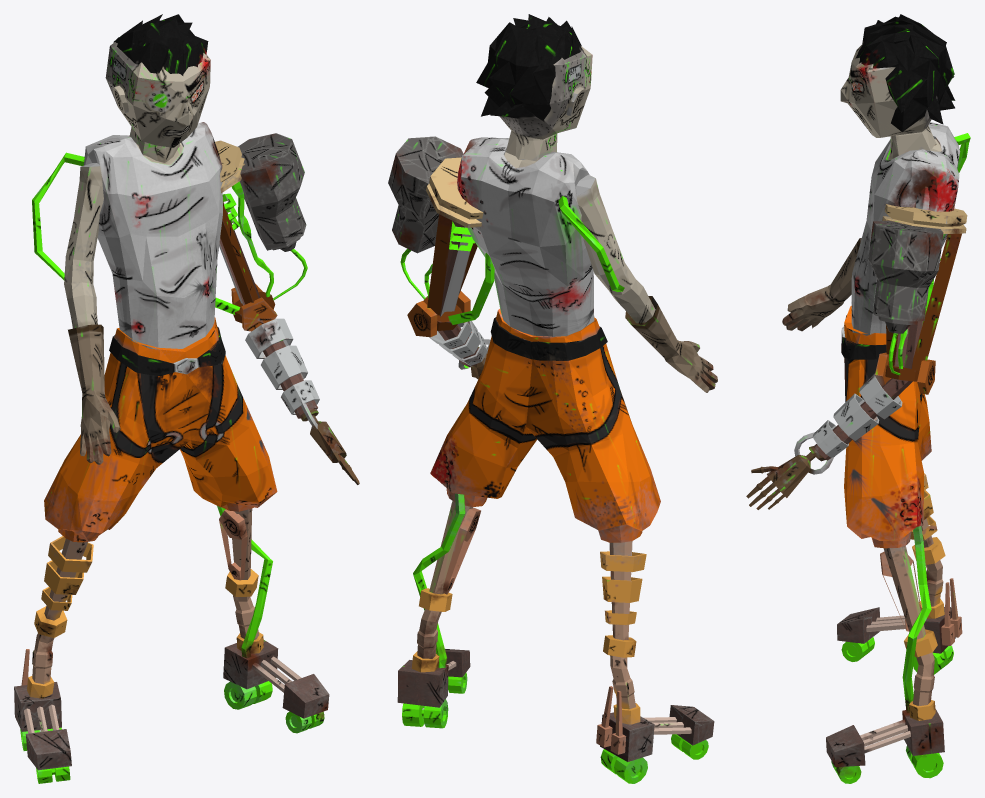
File: CyborgFINALAnimation_000002.obj
3 views of the same model, side by side, from view 1: azimuth 30°, elevation 25°; view 2: azimuth 150°, elevation 25°; view 3: azimuth 270°, elevation 25° (orthographic). The views are drawn at different scales.
Visible parts, largest first — view 1: CyborgMesh_Cube.002; view 2: CyborgMesh_Cube.002; view 3: CyborgMesh_Cube.002.
Part boxes in pixels (x1,y1,x2,y2): CyborgMesh_Cube.002: [14, 14, 359, 783]; CyborgMesh_Cube.002: [388, 14, 717, 783]; CyborgMesh_Cube.002: [746, 14, 970, 783].
Size of the model in its own units: 4.08 by 9.63 by 2.79.
